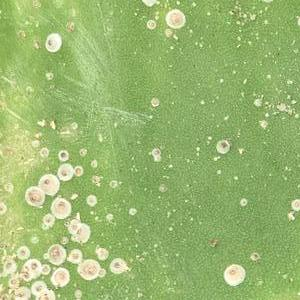Femea: (222, 261, 238, 279), (39, 173, 55, 190), (43, 34, 58, 51), (53, 197, 69, 211), (83, 263, 98, 277), (26, 192, 40, 206), (48, 246, 61, 260), (31, 280, 44, 294), (3, 260, 17, 273), (56, 167, 71, 179), (170, 13, 183, 26), (71, 217, 81, 230), (29, 260, 39, 272), (13, 289, 26, 298), (217, 139, 227, 150), (291, 197, 299, 210), (7, 277, 17, 287), (72, 227, 83, 236), (59, 150, 68, 160), (111, 260, 121, 269), (71, 251, 80, 261), (18, 247, 28, 256), (42, 215, 52, 224), (146, 19, 156, 28), (73, 166, 81, 175), (251, 252, 260, 260), (152, 97, 160, 106), (108, 179, 116, 187), (152, 154, 161, 161), (128, 207, 136, 214), (0, 202, 4, 214), (239, 199, 247, 205), (153, 148, 160, 154), (0, 294, 8, 299)
Linfa: (224, 1, 257, 29), (195, 146, 200, 151), (206, 135, 211, 140), (200, 100, 205, 104), (217, 169, 221, 174), (234, 175, 239, 179), (212, 156, 217, 159)
Macho: (245, 76, 251, 84), (294, 38, 298, 45)
